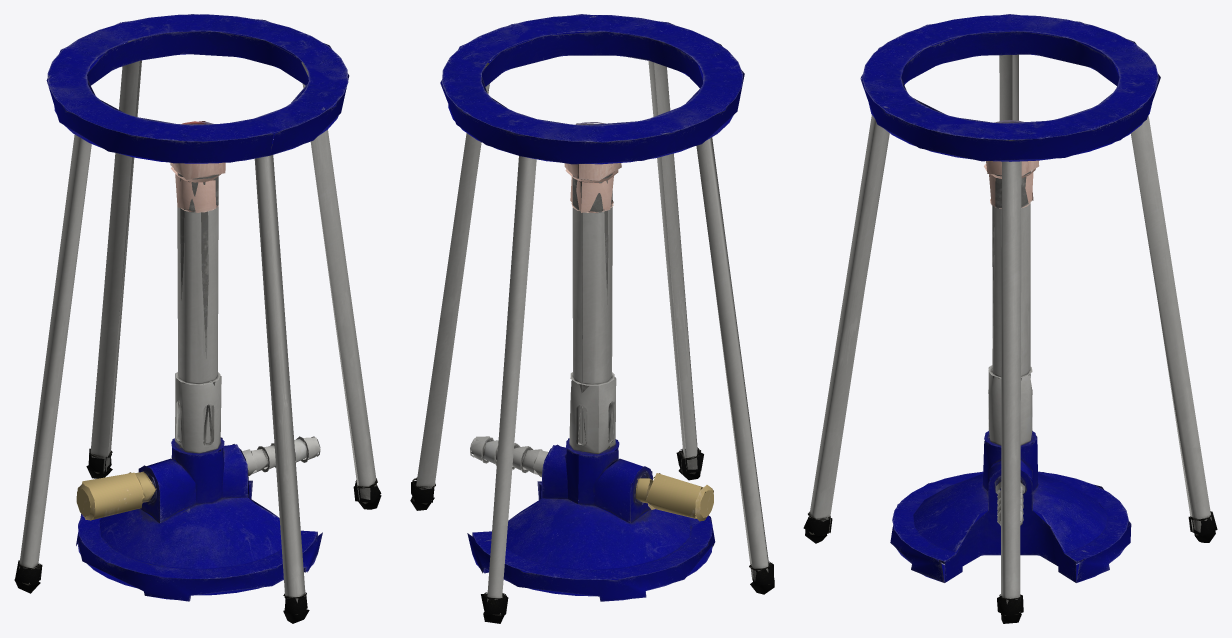
The model's file is BunsenBurner.gltf.
3 views of the same model, side by side, from view 1: azimuth 30°, elevation 25°; view 2: azimuth 150°, elevation 25°; view 3: azimuth 270°, elevation 25° (orthographic).
Visible parts, largest first — view 1: BunsenBurner; view 2: BunsenBurner; view 3: BunsenBurner.
Part boxes in pixels (bbox=[...]): BunsenBurner: bbox=[14, 14, 381, 623]; BunsenBurner: bbox=[410, 14, 774, 623]; BunsenBurner: bbox=[803, 14, 1217, 623].
Size of the model in its own units: 0.14 by 0.1732 by 0.14.
Materials: 1 (1 with a texture image).
